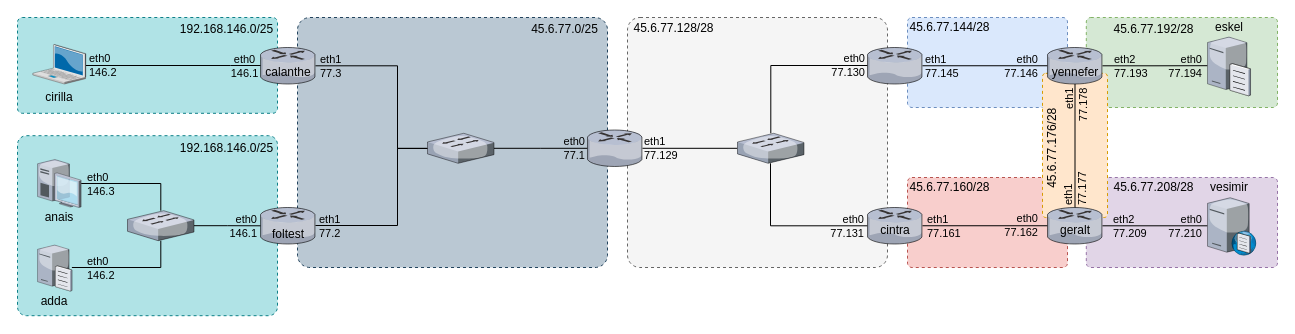
This 1295x334 diagram has some shape labels left out. The shapes that lost their labels are listed below. From the top down, each one's centre as x and y in pixels, then its label:
At (894,65): "vengerberg".
At (614,148): "novigrad".
